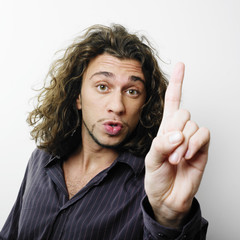young: (50, 27, 176, 142)
